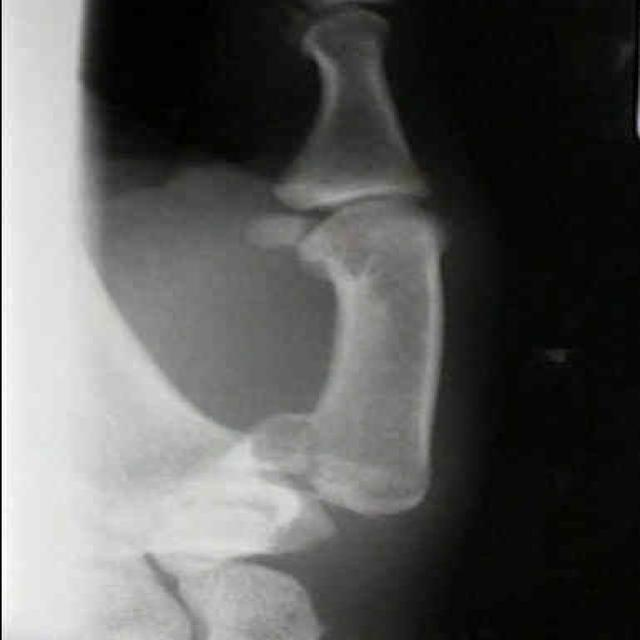Fracture: (174, 388, 411, 585)
